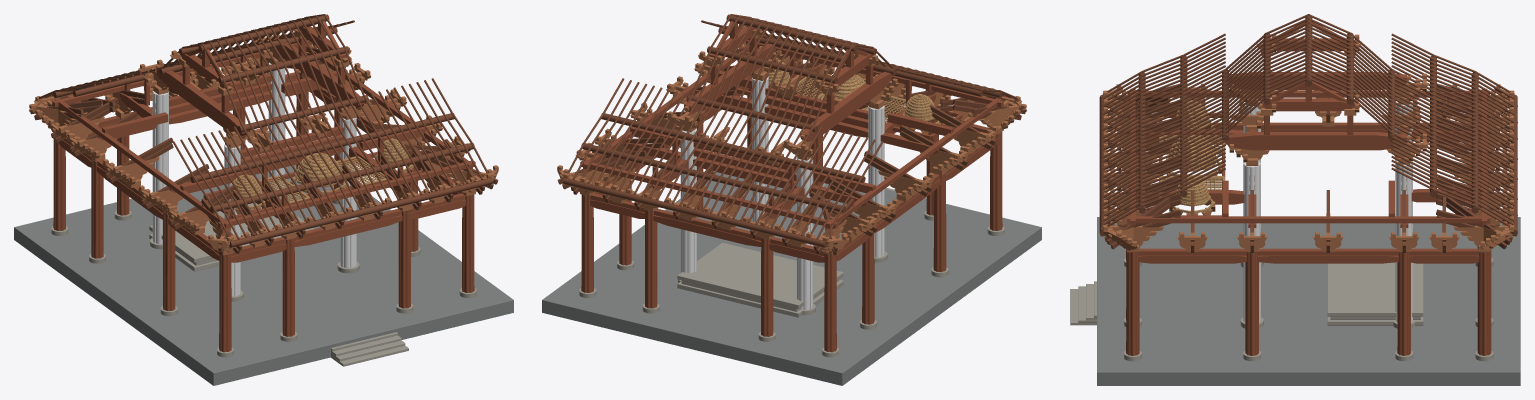
File: baoguosi-hall-interior-v01.fbx
3 views of the same model, side by side, from view 1: azimuth 30°, elevation 25°; view 2: azimuth 150°, elevation 25°; view 3: azimuth 270°, elevation 25° (orthographic). The views are drawn at different scales.
Visible parts, largest first — view 1: 台基_参考平面边界, 槫_00_标高中5.650, 槫_01_标高中6.645, 槫_02_标高中7.365, 中三椽栿_主梁, 山面承托枋, 檐柱_00, 檐柱_20, 檐柱_30, 檐柱_10, 檐柱_02, 檐柱_01 (+30 smaller); view 2: 台基_参考平面边界, 佛坛_须弥座轮廓.002, 槫_10_标高中5.650, 槫_09_标高中6.645, 中三椽栿_主梁, 槫_08_标高中7.365, 山面承托枋, 檐柱_03, 檐柱_23, 檐柱_33, 檐柱_13, 檐柱_00 (+32 smaller); view 3: 台基_参考平面边界, 佛坛_须弥座轮廓.002, 中三椽栿_主梁.001, 山面承托枋.001, 山面柱头枋.001, 檐柱_33, 檐柱_30, 檐柱_31, 檐柱_32, 中三椽栿_主梁, 山面阑额_31, 平梁.001 (+21 smaller).
Boxes of the visible parts, box(x1,y1,x2,y2) form: 台基_参考平面边界: box(14, 164, 513, 385); 槫_00_标高中5.650: box(229, 178, 492, 247); 槫_01_标高中6.645: box(210, 143, 474, 212); 槫_02_标高中7.365: box(190, 113, 454, 182); 中三椽栿_主梁: box(156, 65, 248, 136); 山面承托枋: box(55, 98, 230, 228); 檐柱_00: box(219, 254, 231, 352); 檐柱_20: box(398, 210, 410, 308); 檐柱_30: box(462, 194, 474, 292); 檐柱_10: box(282, 238, 294, 336); 檐柱_02: box(91, 159, 103, 258); 檐柱_01: box(163, 212, 175, 310); 台基_参考平面边界: box(542, 158, 1041, 385); 佛坛_须弥座轮廓.002: box(677, 242, 843, 308); 槫_10_标高中5.650: box(563, 178, 826, 247); 槫_09_标高中6.645: box(581, 143, 845, 212); 中三椽栿_主梁: box(800, 71, 892, 141); 槫_08_标高中7.365: box(601, 113, 865, 182); 山面承托枋: box(825, 98, 1000, 228); 檐柱_03: box(824, 254, 836, 352); 檐柱_23: box(645, 210, 657, 308); 檐柱_33: box(581, 194, 593, 292); 檐柱_13: box(761, 238, 773, 336); 檐柱_00: box(990, 132, 1002, 230); 台基_参考平面边界: box(1097, 217, 1520, 385); 佛坛_须弥座轮廓.002: box(1327, 262, 1423, 316); 中三椽栿_主梁.001: box(1225, 132, 1406, 150); 山面承托枋.001: box(1127, 216, 1490, 223); 山面柱头枋.001: box(1138, 248, 1479, 255); 檐柱_33: box(1477, 250, 1491, 355); 檐柱_30: box(1126, 250, 1139, 355); 檐柱_31: box(1245, 252, 1258, 355); 檐柱_32: box(1397, 252, 1410, 355); 中三椽栿_主梁: box(1229, 72, 1406, 90); 山面阑额_31: box(1257, 255, 1399, 263); 平梁.001: box(1262, 98, 1354, 111).
Size of the model in its own units: 14.6 by 11.5 by 17.85.
